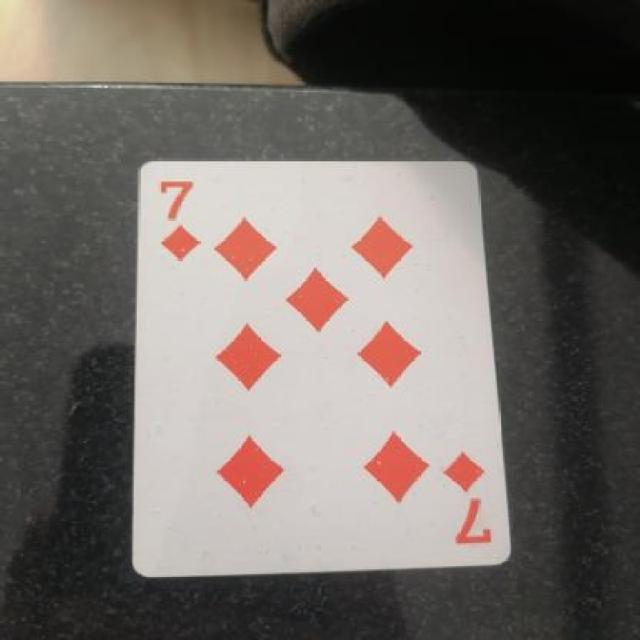7D: (429, 443, 518, 565), (130, 168, 224, 275)
